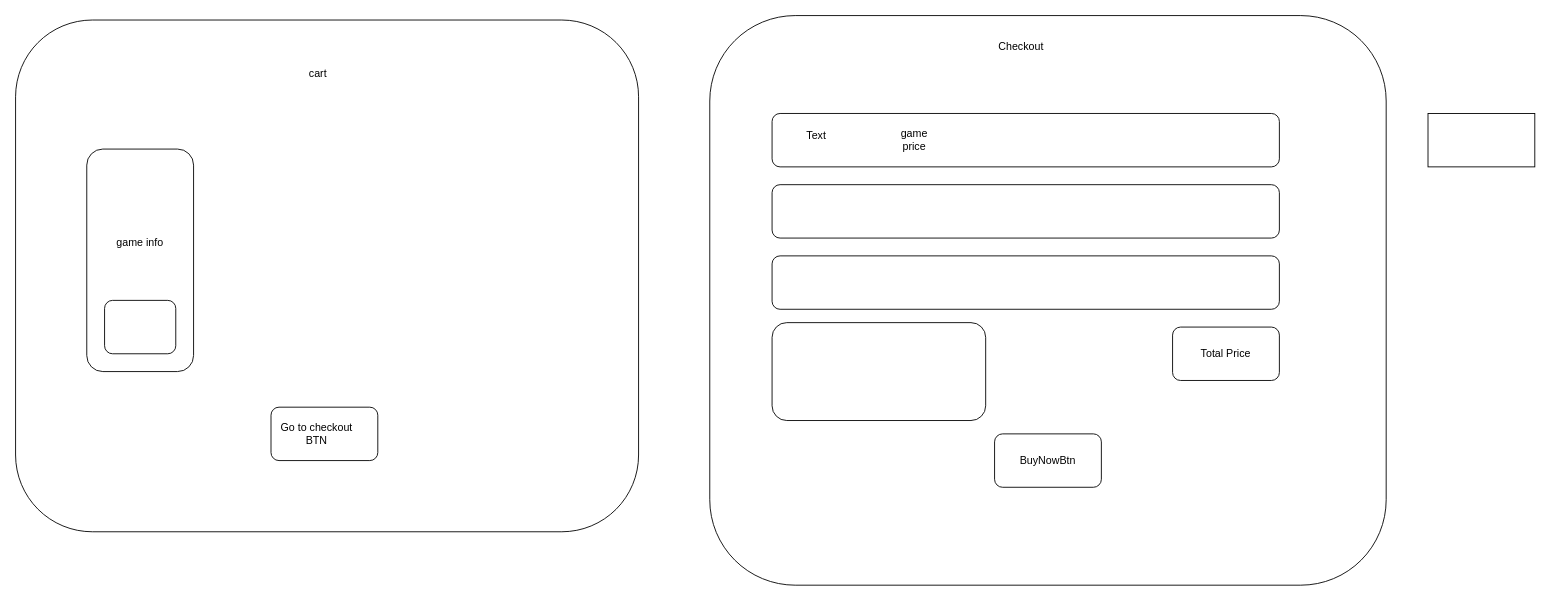
The diagram is 1550 pixels wide and 601 high, and some of its shapes have lost their labels. The box of each missing label's shape, as (x1, y1, x2, y2) in pixels:
Delete from cart: (104, 299, 176, 354)
RTN to Landing Page BTN: (771, 322, 986, 421)
